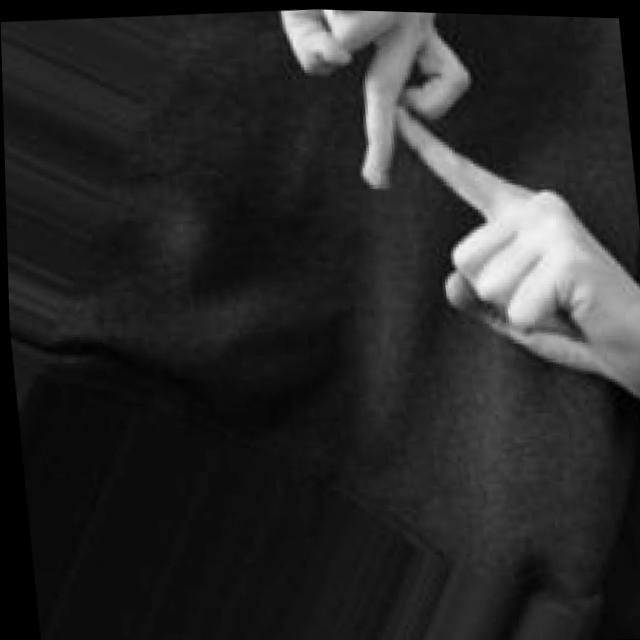R: (277, 8, 640, 436)
